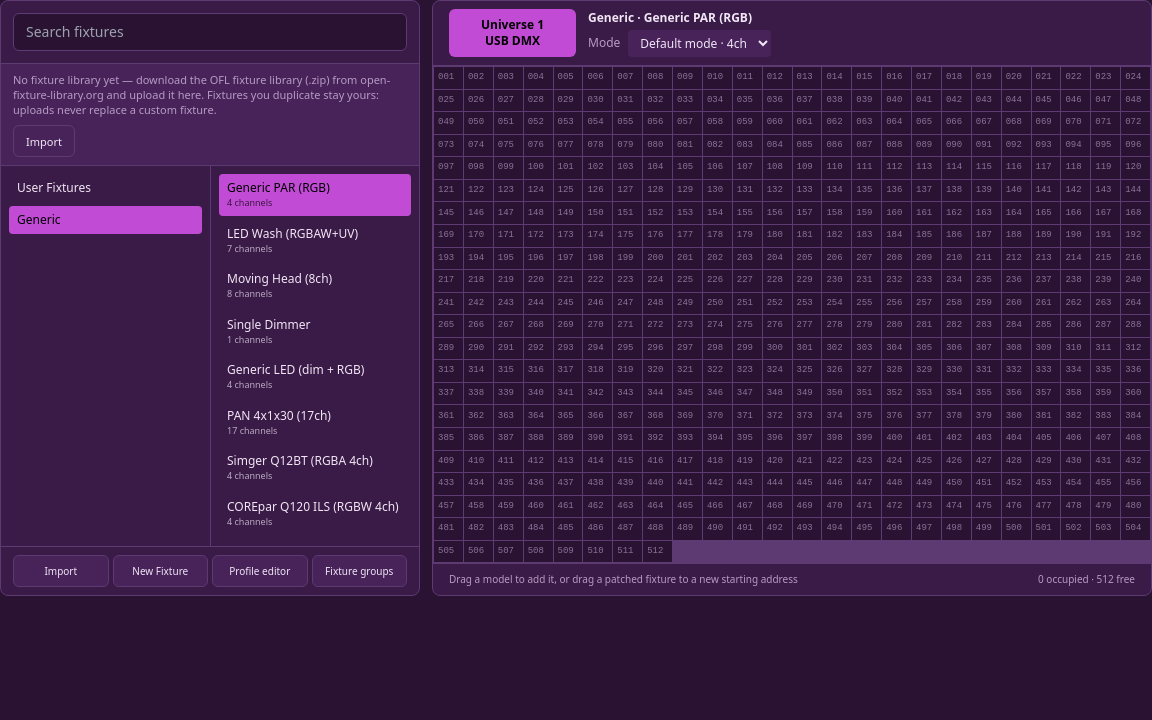
Test: PatchPanel fixture library › duplicates a built-in generic as a custom fixture
This screenshot has width=1152, height=720.
What coordinates should you click on to do the following:
click the button "New Fixture"
I would click on:
 (160, 571)
Its box is x1=112 y1=555 x2=208 y2=587.
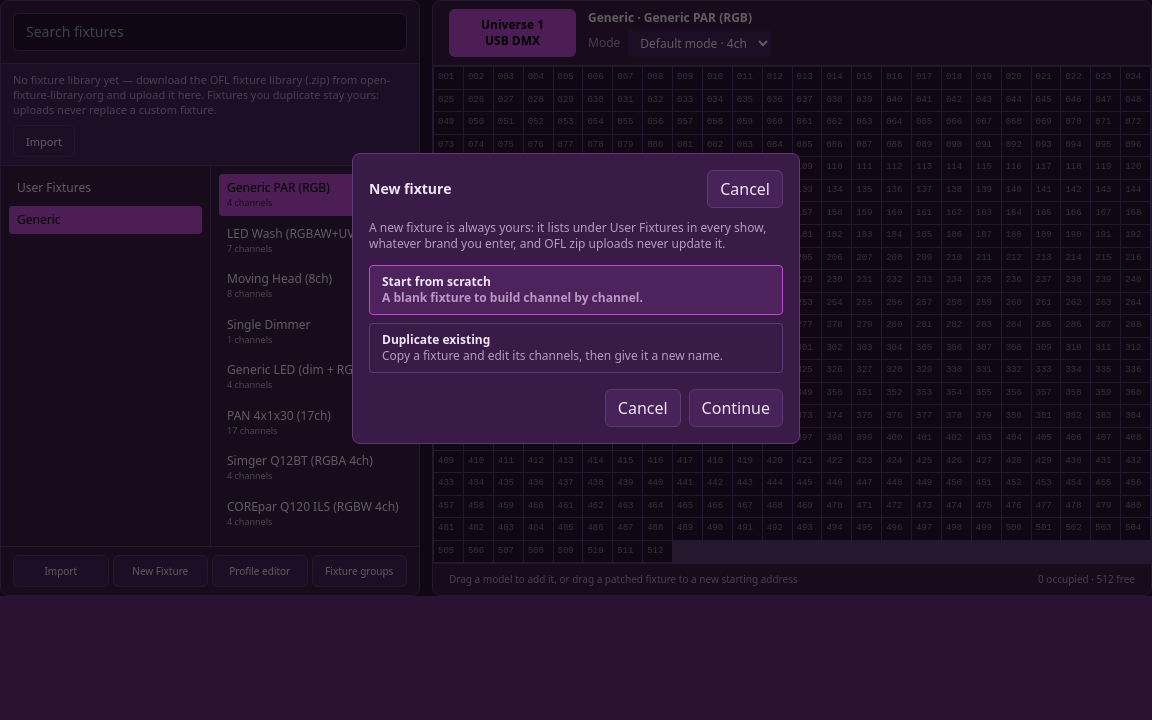
What coordinates should you click on to do the following:
click the button that starts with "Duplicate existing"
I would click on:
 (576, 348)
Its box is x1=369 y1=323 x2=783 y2=373.
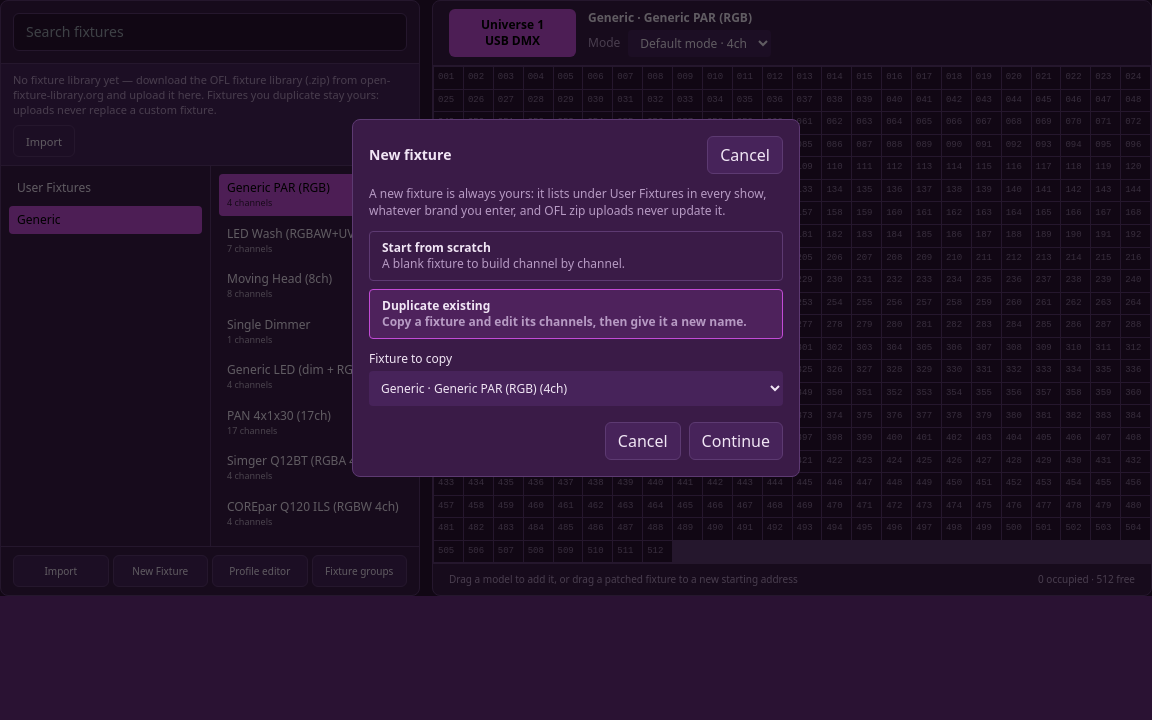
What coordinates should you click on to do the following:
click the button "Continue"
I would click on:
 (736, 441)
Its box is x1=689 y1=422 x2=783 y2=460.
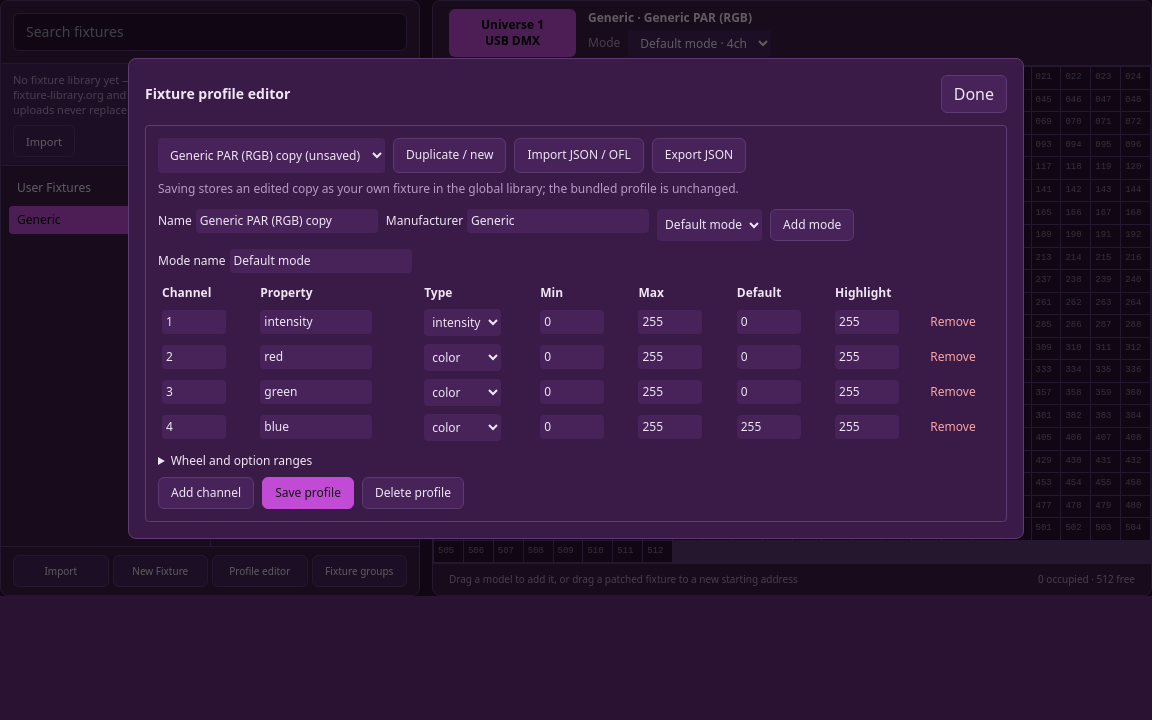
Now the field named "Profile name" holds "Generic PAR (RGB) copy", box x1=196 y1=209 x2=378 y2=233
What coordinates should you click on to do the following:
click the button "Save profile"
I would click on:
 (308, 493)
Its box is x1=262 y1=477 x2=354 y2=509.
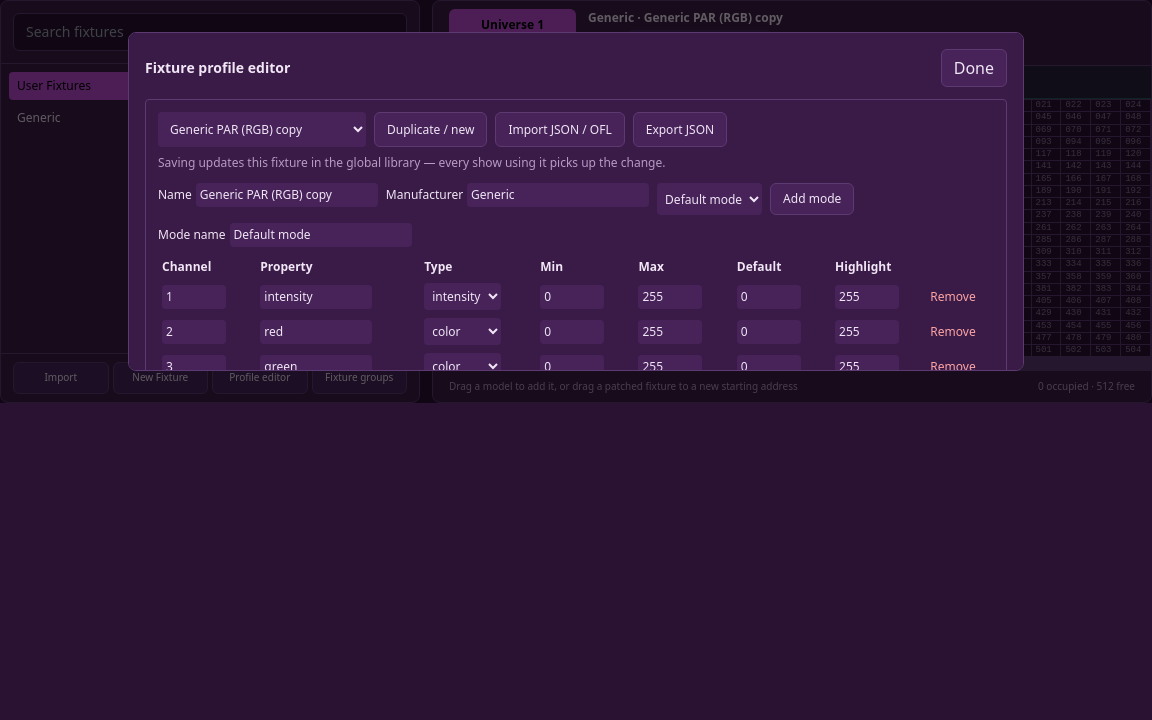
Now the text "OFL zip uploads will never update it" is shown, box x1=449 y1=73 x2=952 y2=90
